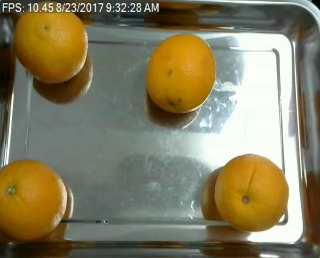Orange: (214, 152, 289, 231), (145, 33, 216, 111), (2, 160, 68, 242), (12, 12, 87, 84)
